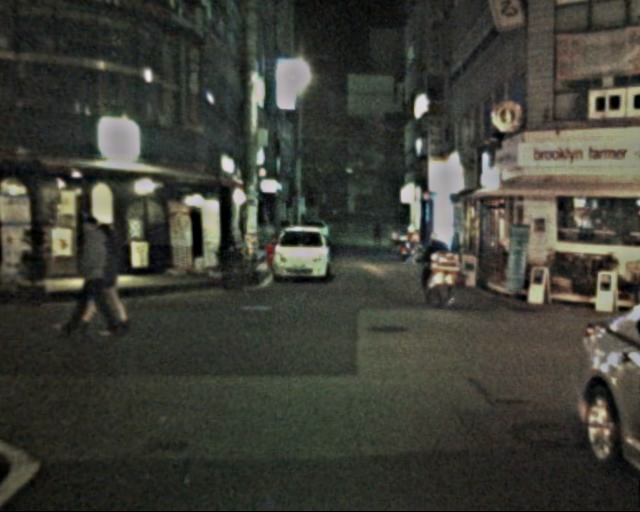person: (66, 215, 124, 340), (421, 234, 456, 314)
